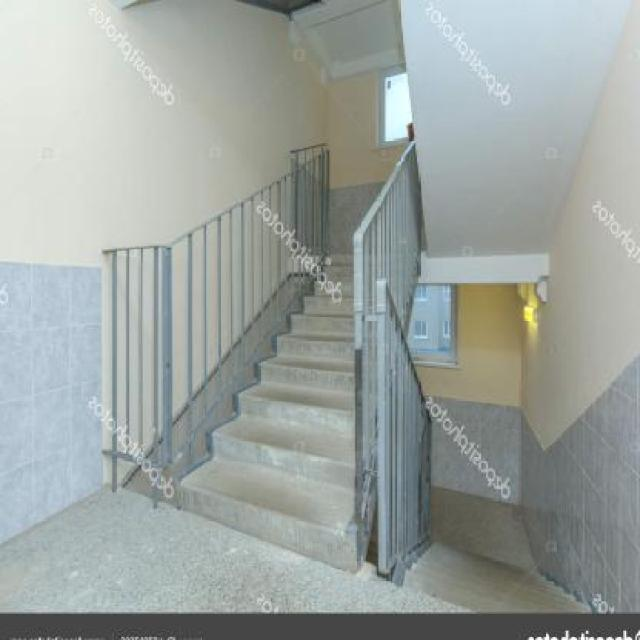stair: (154, 93, 426, 578)
